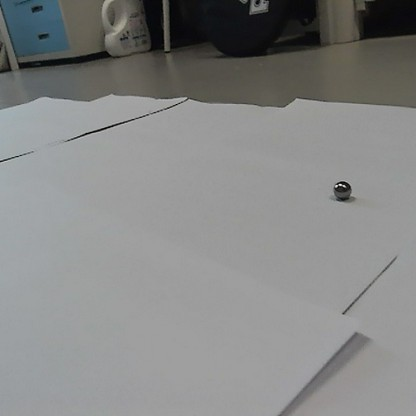ironball: (333, 179, 352, 201)
